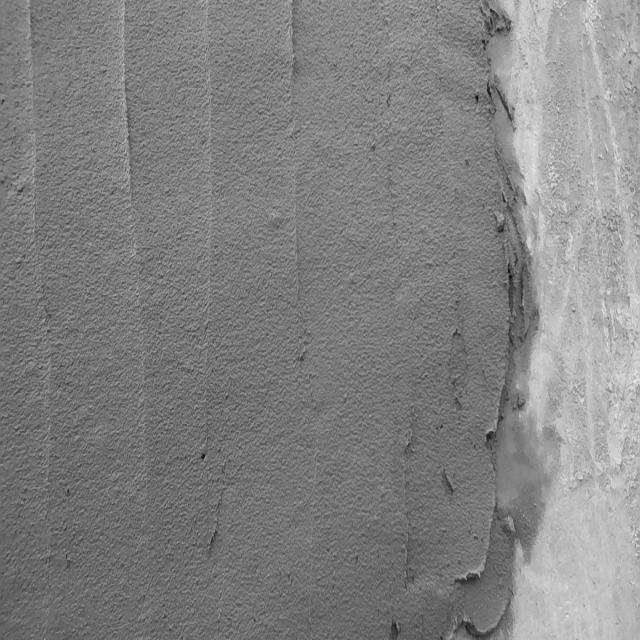trowels marks: (118, 3, 138, 227), (286, 0, 299, 123)
